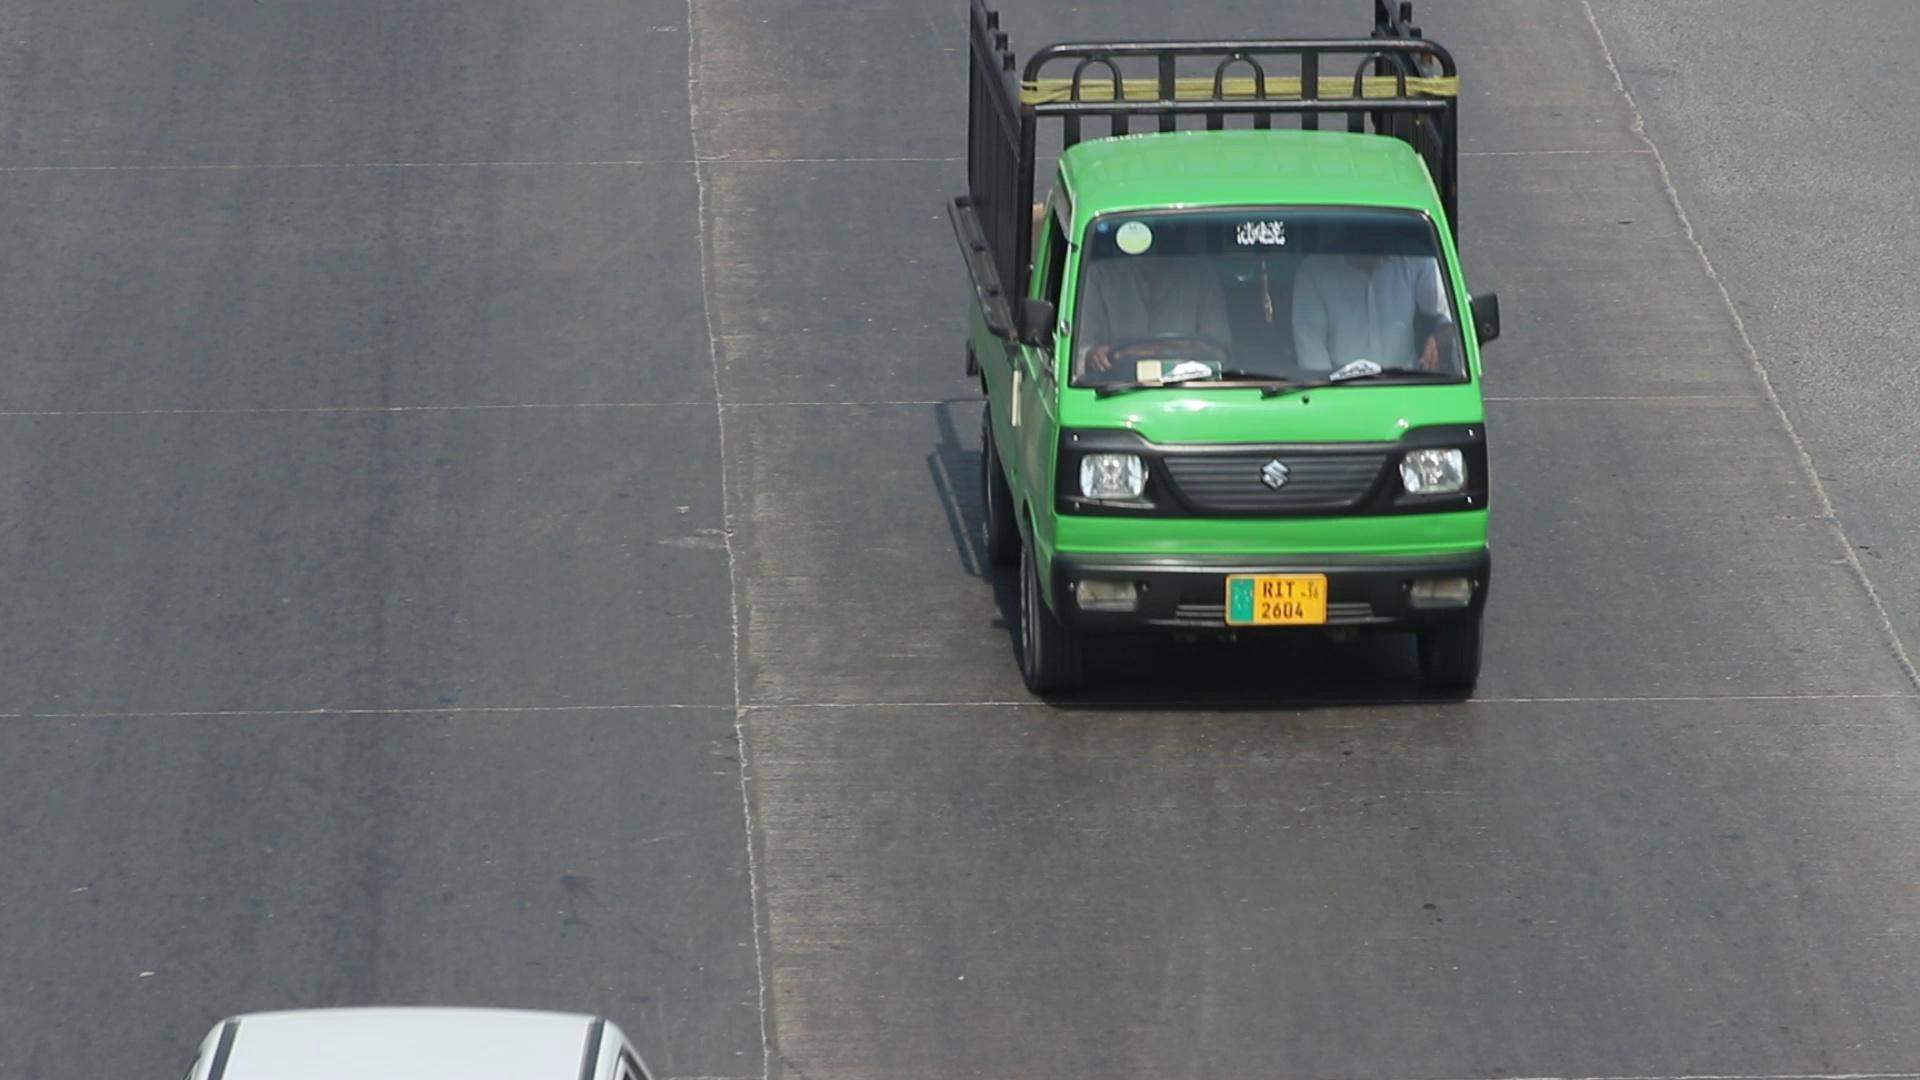windshield: (1060, 190, 1484, 393)
